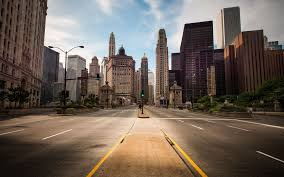strada: (0, 104, 250, 177)
